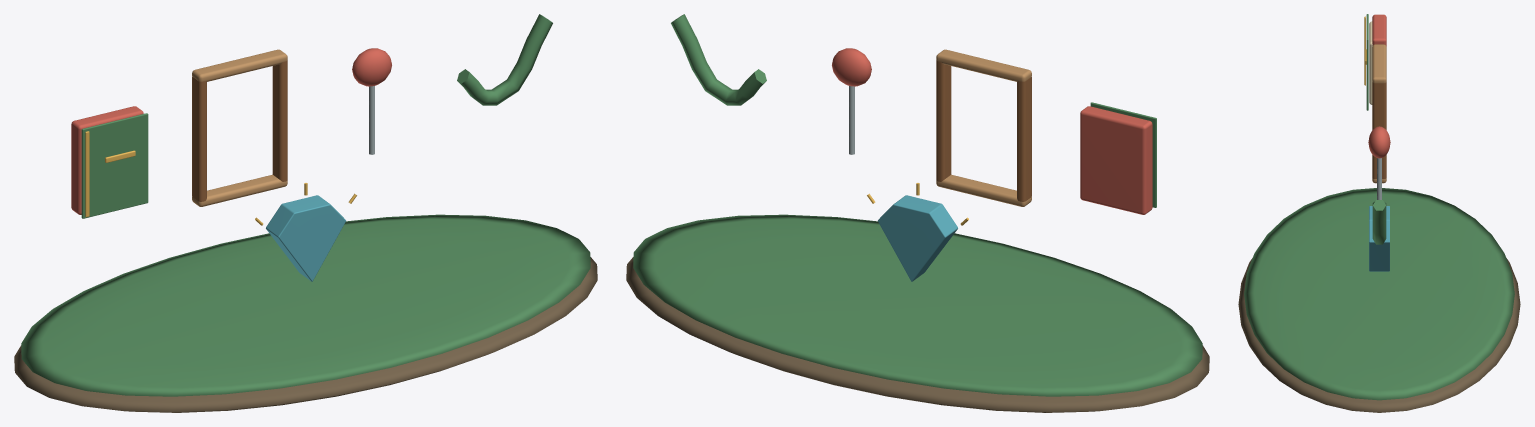
File: complete-first-expected-fit.glb
3 views of the same model, side by side, from view 1: azimuth 30°, elevation 25°; view 2: azimuth 150°, elevation 25°; view 3: azimuth 270°, elevation 25° (orthographic). The views are drawn at different scales.
Visible parts, largest first — view 1: complete-first-expected-fit_surface_01, complete-first-expected-fit_surface_00, complete-first-expected-fit_surface_08, complete-first-expected-fit_surface_05, complete-first-expected-fit_surface_02, complete-first-expected-fit_surface_06, complete-first-expected-fit_surface_04; view 2: complete-first-expected-fit_surface_01, complete-first-expected-fit_surface_00, complete-first-expected-fit_surface_02, complete-first-expected-fit_surface_08, complete-first-expected-fit_surface_05, complete-first-expected-fit_surface_06; view 3: complete-first-expected-fit_surface_01, complete-first-expected-fit_surface_00, complete-first-expected-fit_surface_02, complete-first-expected-fit_surface_05, complete-first-expected-fit_surface_08, complete-first-expected-fit_surface_06, complete-first-expected-fit_surface_03.
Boxes of the visible parts, x1=… form: complete-first-expected-fit_surface_01: x1=21, y1=14, x2=590, y2=396; complete-first-expected-fit_surface_00: x1=14, y1=257, x2=597, y2=412; complete-first-expected-fit_surface_08: x1=266, y1=195, x2=345, y2=281; complete-first-expected-fit_surface_05: x1=192, y1=60, x2=287, y2=201; complete-first-expected-fit_surface_02: x1=71, y1=48, x2=391, y2=214; complete-first-expected-fit_surface_06: x1=192, y1=49, x2=287, y2=206; complete-first-expected-fit_surface_04: x1=85, y1=131, x2=356, y2=225; complete-first-expected-fit_surface_01: x1=633, y1=14, x2=1202, y2=396; complete-first-expected-fit_surface_00: x1=626, y1=257, x2=1209, y2=412; complete-first-expected-fit_surface_02: x1=832, y1=48, x2=1152, y2=214; complete-first-expected-fit_surface_08: x1=878, y1=195, x2=957, y2=281; complete-first-expected-fit_surface_05: x1=936, y1=60, x2=1031, y2=201; complete-first-expected-fit_surface_06: x1=936, y1=49, x2=1031, y2=206; complete-first-expected-fit_surface_01: x1=1244, y1=14, x2=1514, y2=400; complete-first-expected-fit_surface_00: x1=1238, y1=258, x2=1520, y2=412; complete-first-expected-fit_surface_02: x1=1368, y1=14, x2=1390, y2=158; complete-first-expected-fit_surface_05: x1=1372, y1=82, x2=1386, y2=178; complete-first-expected-fit_surface_08: x1=1369, y1=206, x2=1389, y2=271; complete-first-expected-fit_surface_06: x1=1372, y1=44, x2=1386, y2=183; complete-first-expected-fit_surface_03: x1=1369, y1=21, x2=1372, y2=104.
Bounding box in the file's own units: 4.56 × 2.26 × 2.5.
